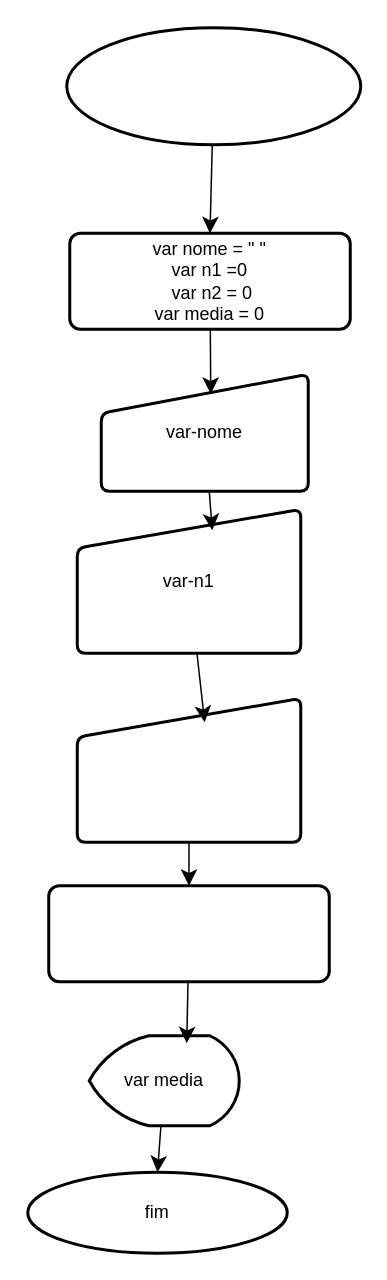
The diagram is 387 pixels wide and 1280 high, and some of its shapes have lost their labels. Here are the shapes that lost their labels. From the top down, the centre of each, then its label:
At point 213,86: "incio".
At point 188,769: "var-n2".
At point 188,933: "var-media = (var-n1 + var-n2 /2".
